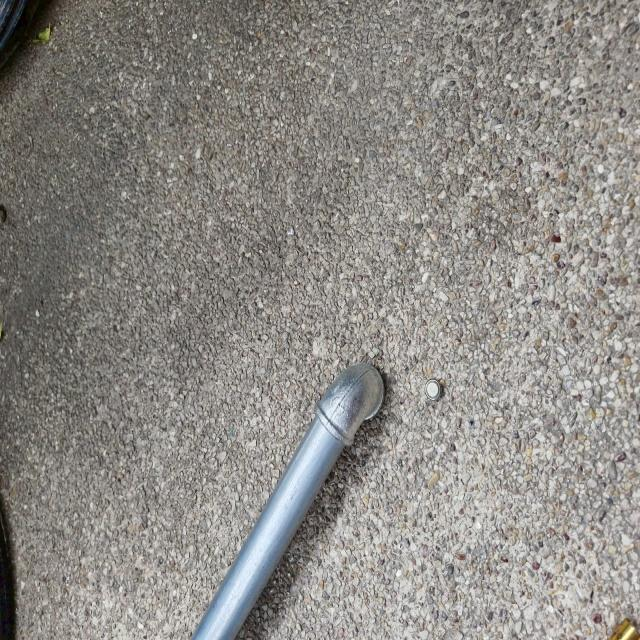battery: (424, 378, 439, 405)
